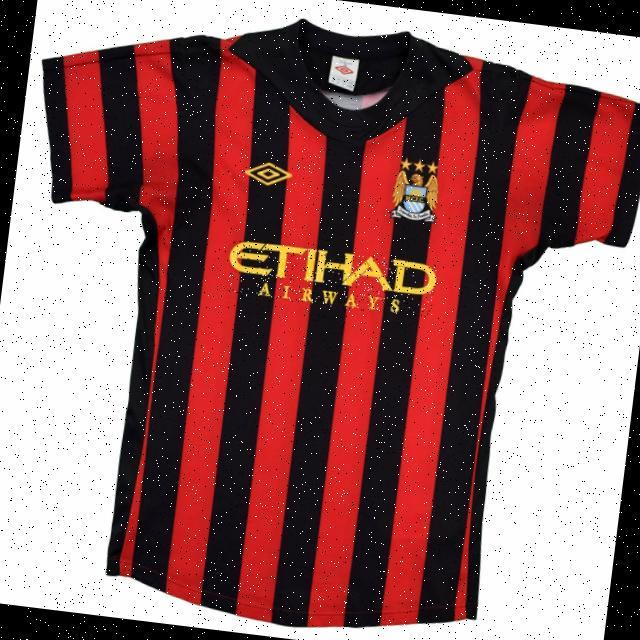Etihad Airways: (227, 239, 438, 319)
